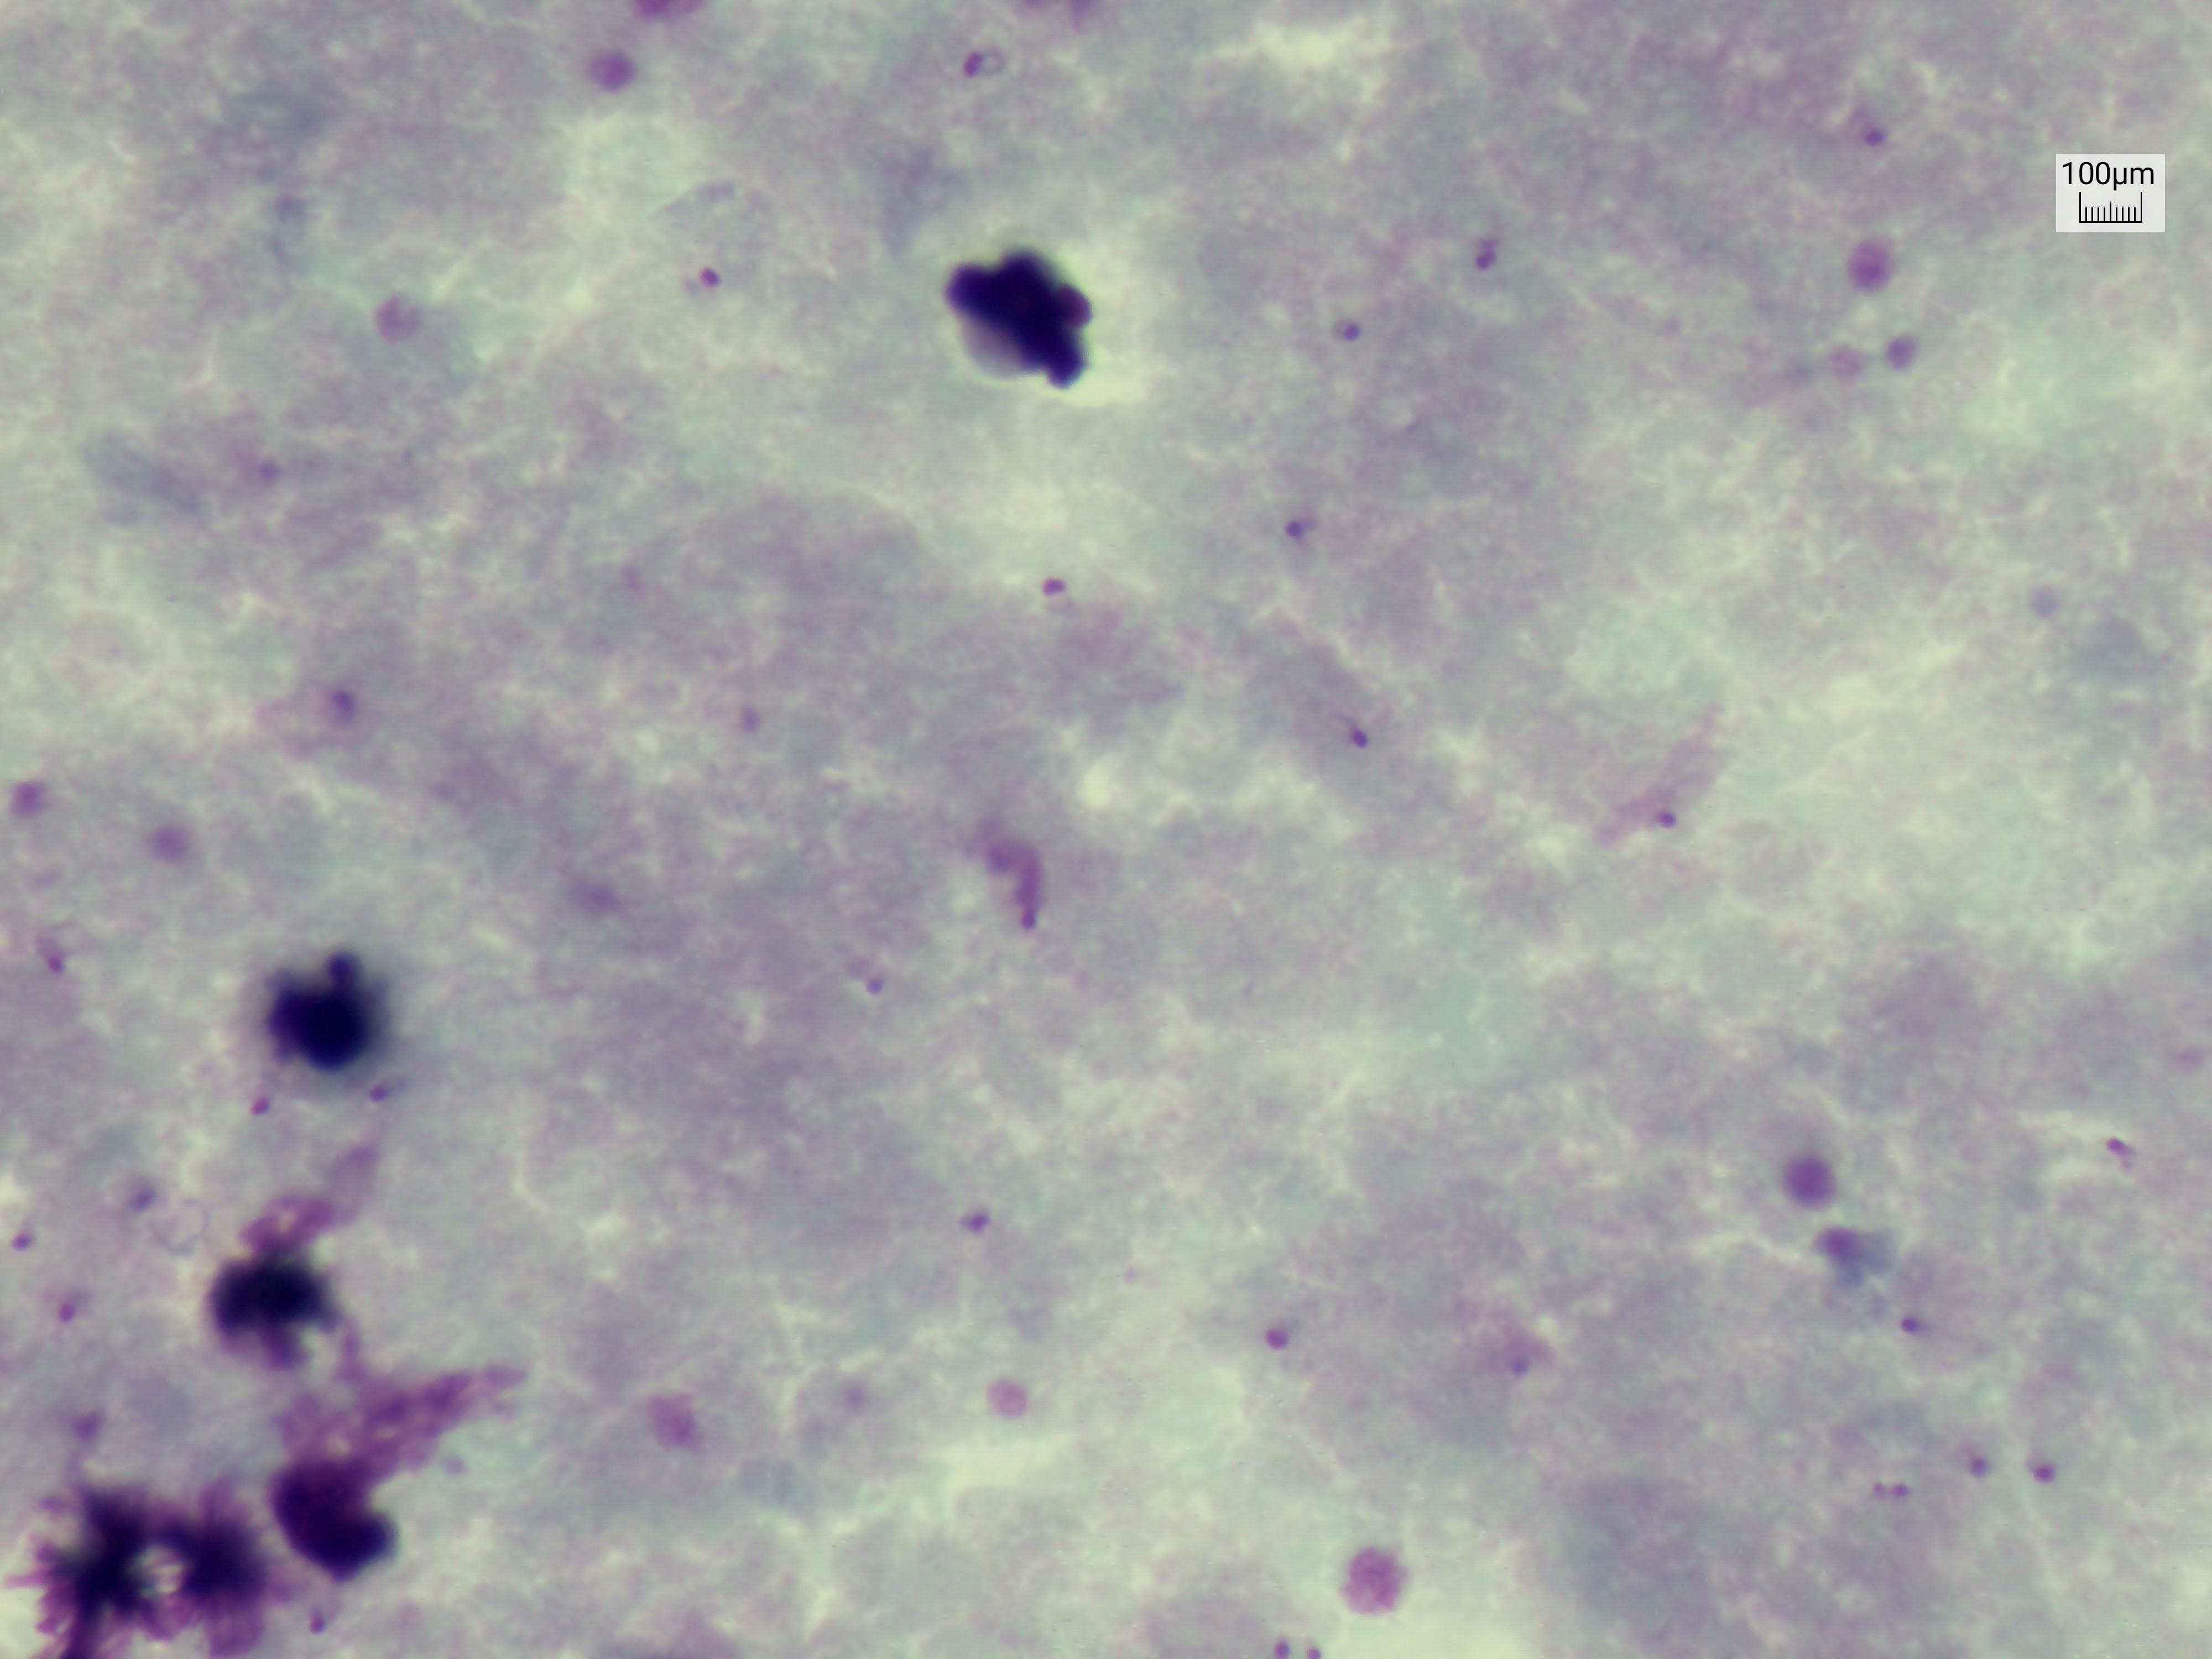p.falciparum: (1609, 772, 1707, 866), (2080, 1093, 2168, 1194), (927, 14, 1019, 108), (1444, 192, 1529, 289), (932, 1157, 1007, 1265), (1468, 1310, 1555, 1403), (44, 1267, 129, 1361), (1252, 1272, 1317, 1391), (1310, 272, 1402, 354), (359, 1046, 435, 1141), (23, 922, 113, 1002), (1839, 1452, 1935, 1527), (1834, 87, 1932, 160), (301, 669, 390, 749), (232, 1054, 301, 1150), (669, 239, 747, 322), (711, 664, 789, 746), (843, 924, 920, 1004), (1261, 484, 1329, 563), (1238, 1612, 1341, 1659), (282, 1577, 359, 1640), (1313, 697, 1385, 760), (1022, 559, 1083, 633), (2024, 1422, 2073, 1513), (0, 1201, 57, 1270), (1947, 1419, 2005, 1488), (1883, 1303, 1944, 1358)
